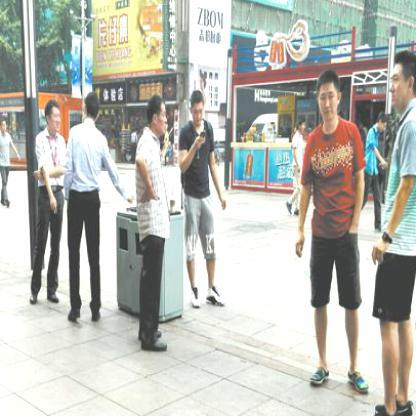person: (300, 68, 370, 394), (367, 47, 415, 415), (180, 90, 226, 311), (66, 92, 104, 327), (136, 93, 169, 357), (29, 98, 70, 308)
